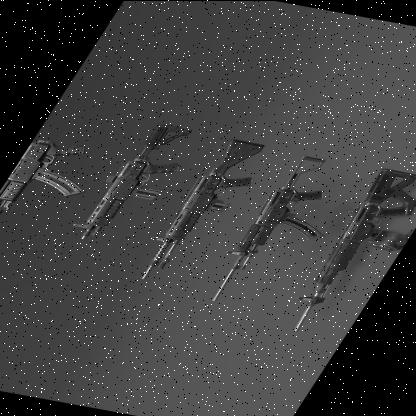rifle: (197, 148, 365, 306), (126, 127, 278, 287), (58, 116, 210, 249)
